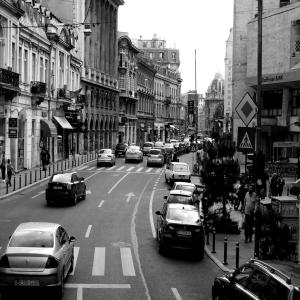Vehicle-registration-plate: (18, 280, 37, 286), (179, 231, 192, 236), (55, 187, 63, 189), (180, 177, 186, 178)
